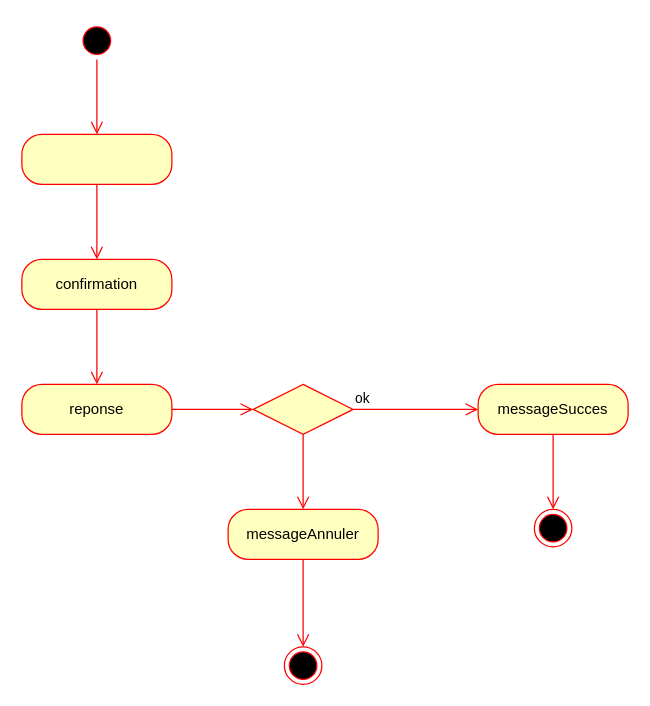
Image size: 650x706. Some labels were removed from this diagram. The shapes that lost their labels are listed below. From the top down, each one's centre as x and y in pixels, then its label:
At (x=96, y=158): "demandeSuppression".
At (x=302, y=408): "Condition".
